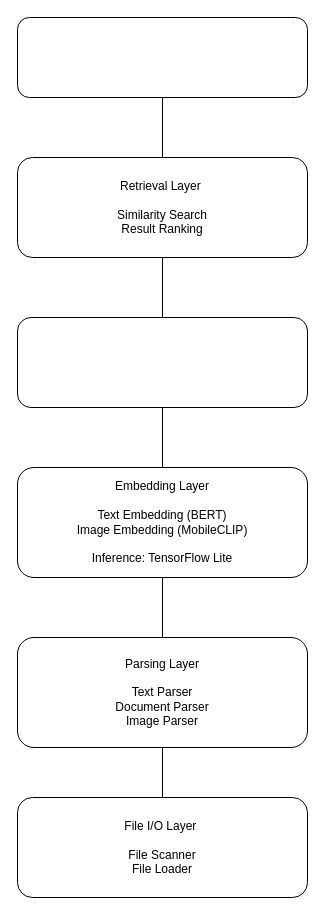
Image size: 325x915. Some labels were removed from this diagram. The box of each missing label's shape, as (x1, y1, x2, y2) in pixels:
UI & Accessibility Layer (Flutter): (16, 16, 308, 98)
Vector Storage Layer (ChromaDB): (16, 316, 308, 408)
